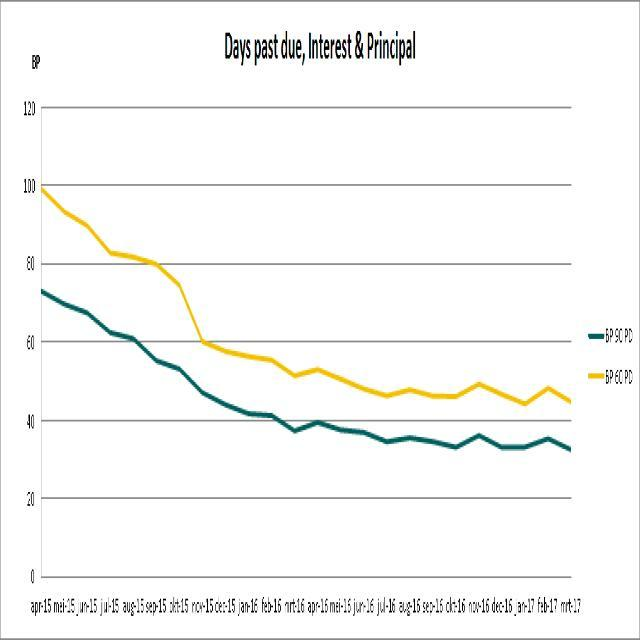axis: (39, 573, 580, 581), (38, 100, 45, 585)
line: (40, 179, 575, 409)
